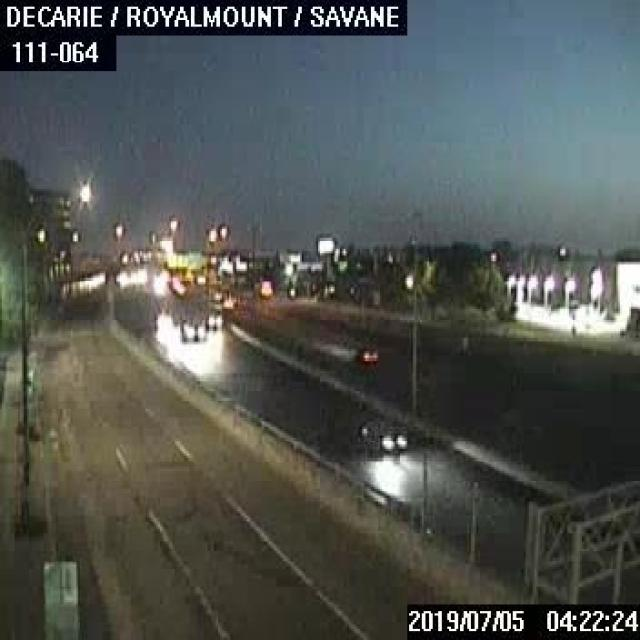vehicle: (358, 418, 407, 451), (179, 319, 204, 340), (352, 345, 377, 363), (204, 312, 222, 328)
